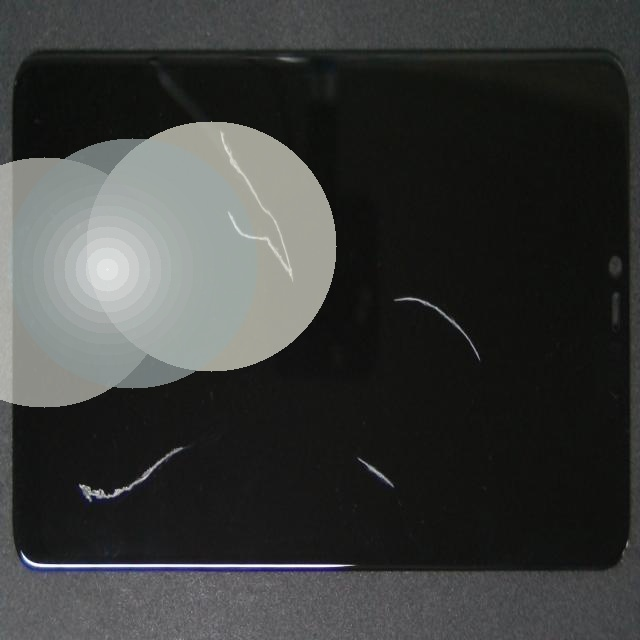scratch: (233, 241, 589, 640), (303, 200, 640, 464), (133, 197, 269, 640), (200, 231, 427, 326)
